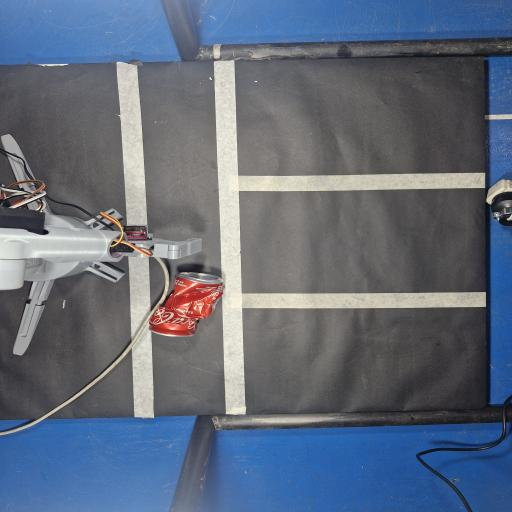lata_defectuoso: (150, 273, 223, 336)
